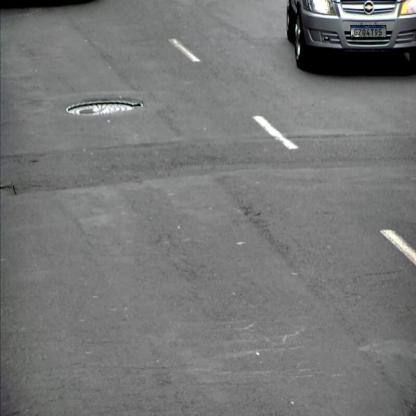PlacaM: (350, 25, 386, 37)
